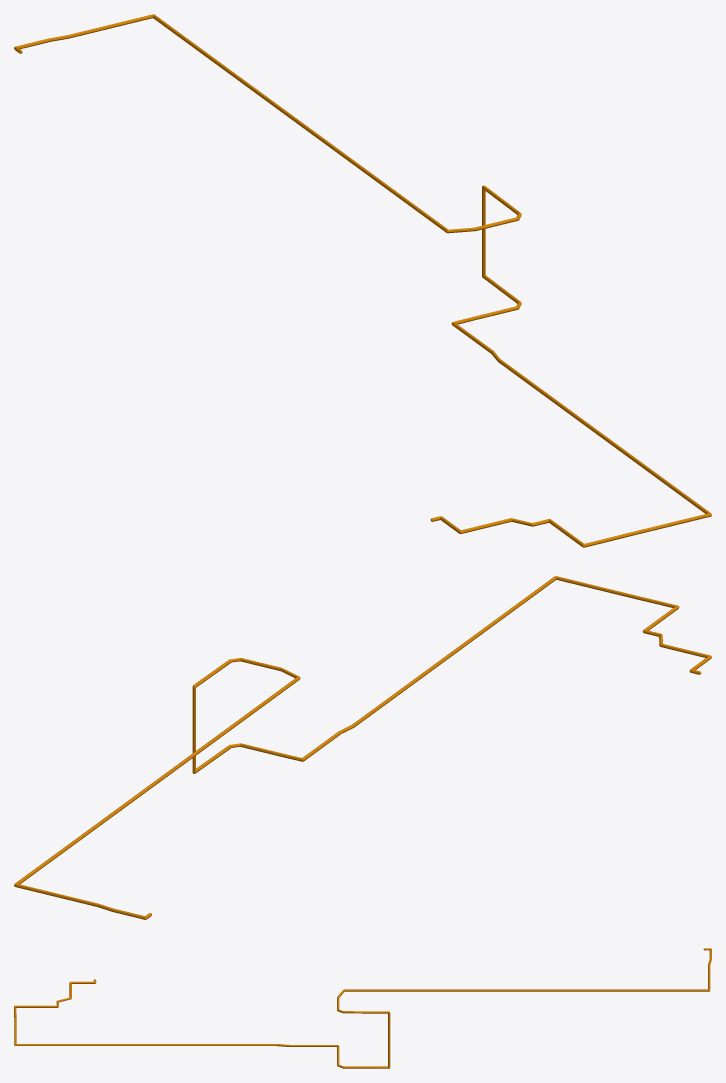
3 renders of one model, top to bottom at view 1: azimuth 30°, elevation 25°; view 2: azimuth 150°, elevation 25°; view 3: azimuth 270°, elevation 25°, orthographic. The views are drawn at different scales.
Size of the model in its own units: 1717 by 520 by 5736.
